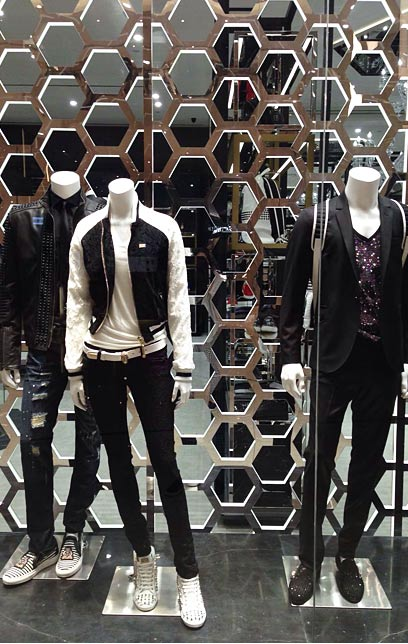person-like: (63, 176, 214, 634), (272, 161, 407, 610), (2, 168, 106, 589)
